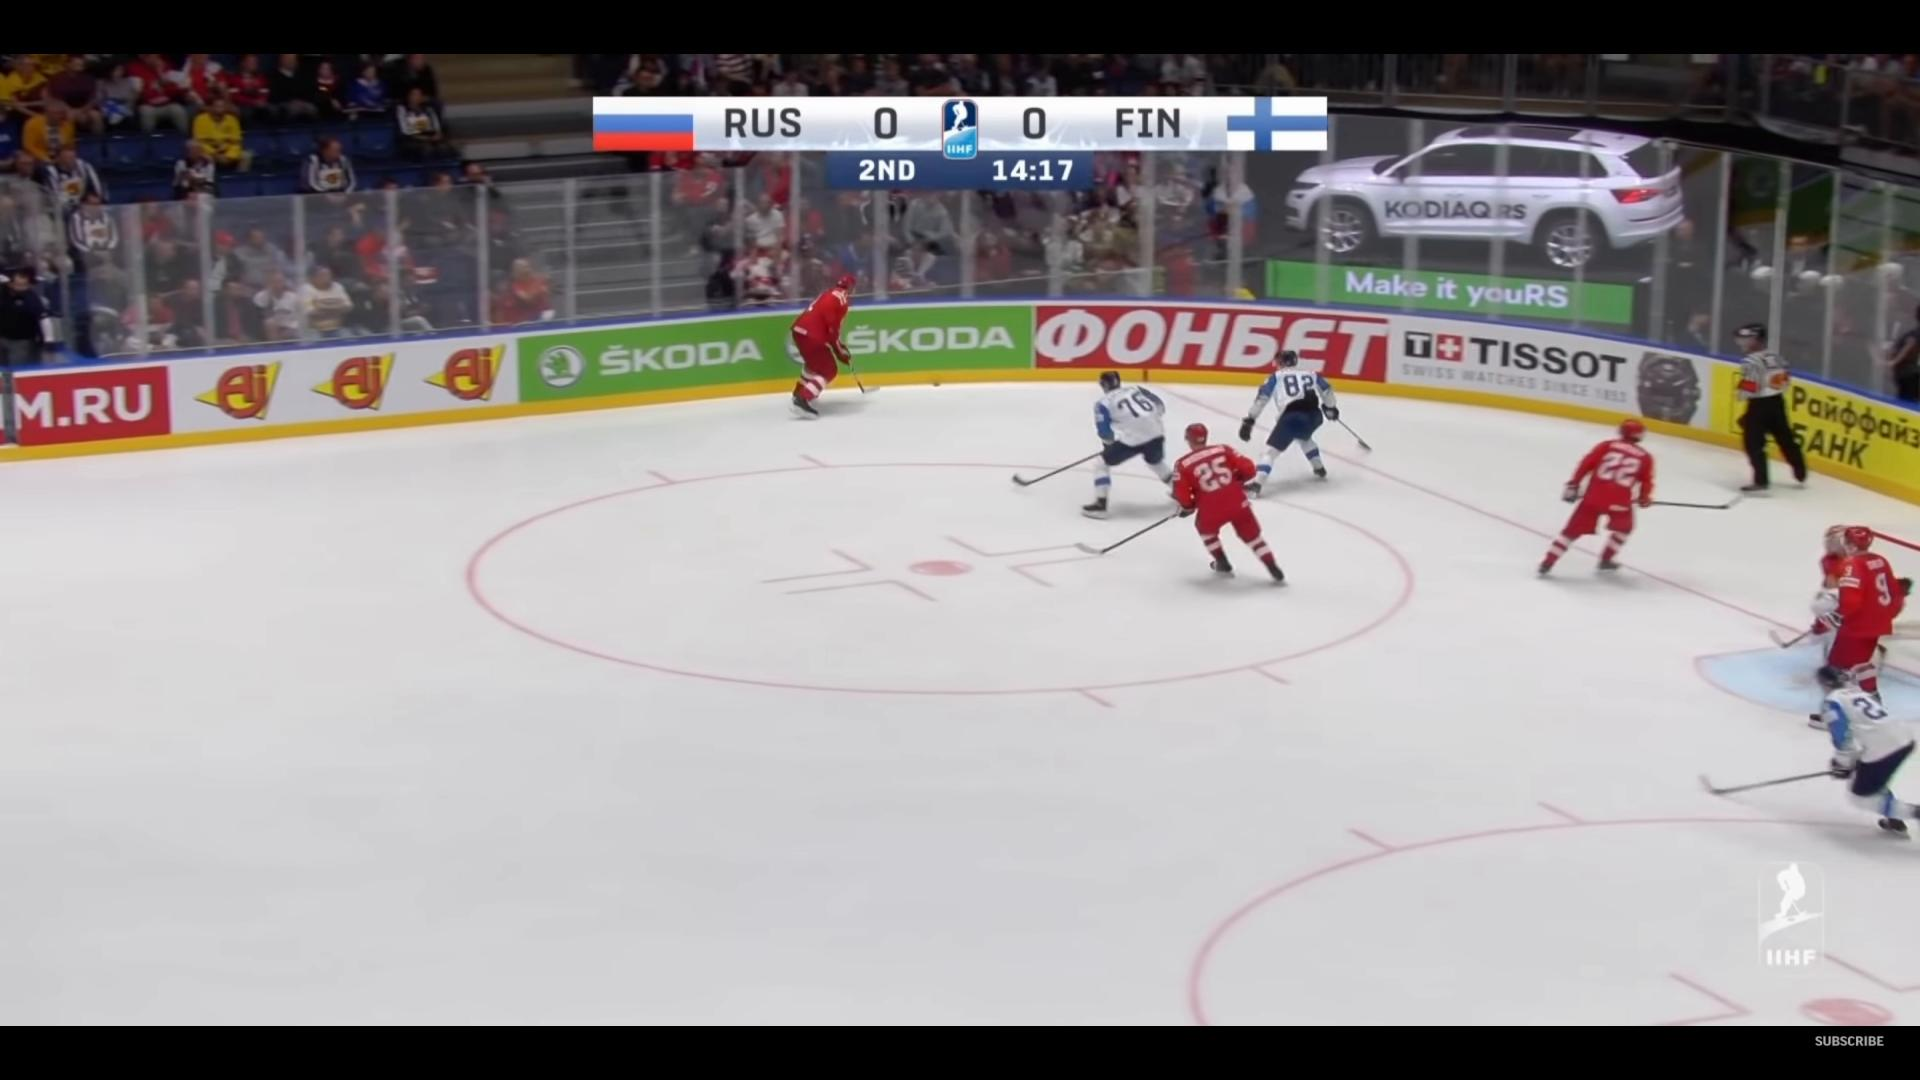puck: (932, 382, 939, 385)
